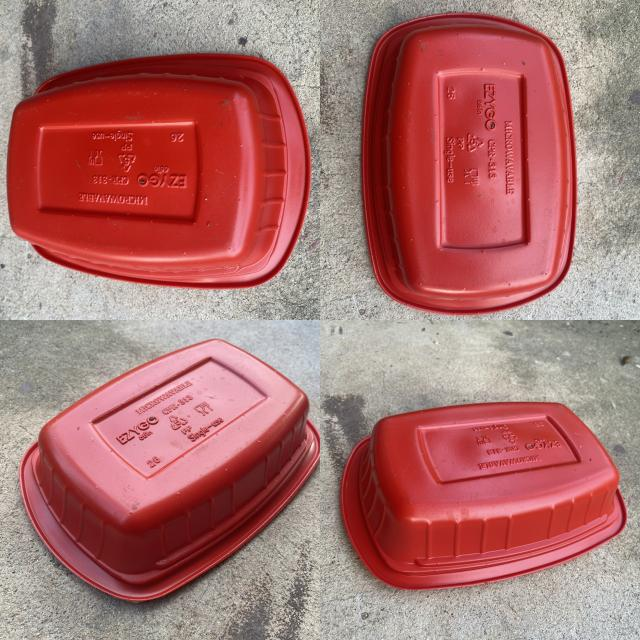Single-Use-Plastic: (20, 340, 320, 601), (8, 54, 311, 289), (362, 14, 576, 314), (341, 402, 626, 589)
